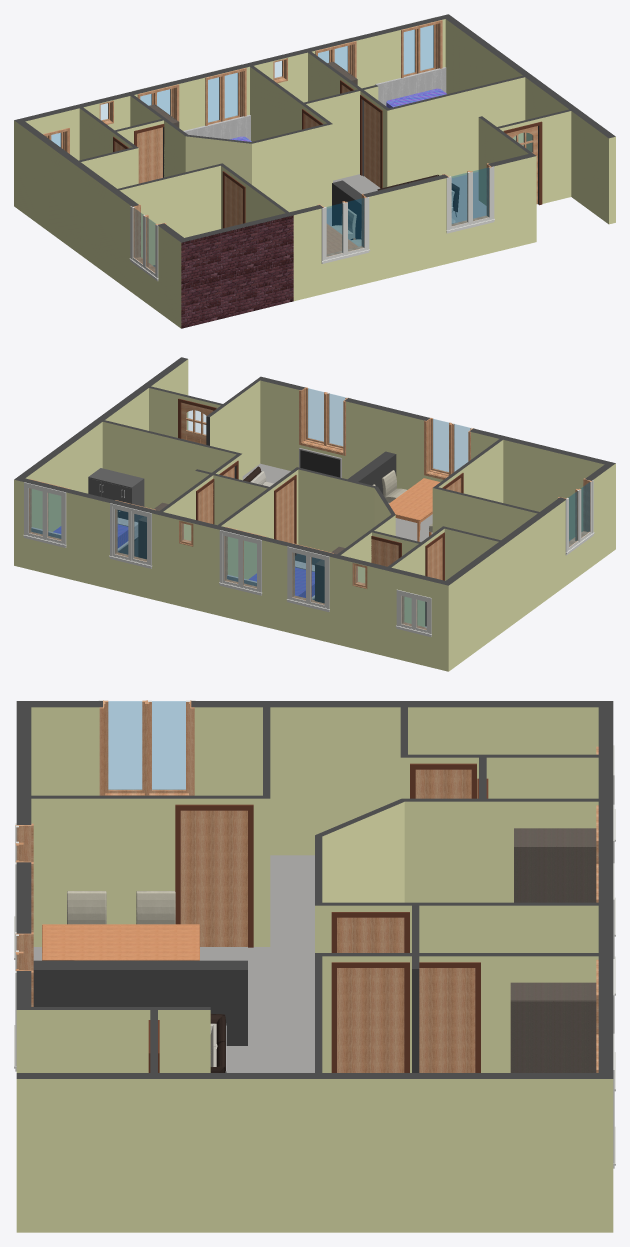
The model's file is Design 1_plan.glb.
The picture shows the model from 3 angles, top to bottom: view 1: azimuth 30°, elevation 25°; view 2: azimuth 150°, elevation 25°; view 3: azimuth 270°, elevation 25°; orthographic projection. The views are drawn at different scales.
Parts seen in each view (by area): view 1: Generic - 200mm.24, Generic - 200mm.6, Generic - 100mm.19, Generic - 200mm.3, Generic - 200mm.4, Generic - 200mm.5, Generic - 100mm.15, Generic - 100mm.8, Generic - 100mm.21, Generic - 100mm.14, Generic - 100mm.17, 1200 x 1500mm.113 (+29 smaller); view 2: Generic - 200mm.5, Generic - 200mm.6, Generic - 200mm.24, Generic - 200mm.4, Generic - 100mm.19, Generic - 200mm.3, Generic - 100mm.15, Generic - 100mm.20, Generic - 100mm.8, Generic - 100mm.14, Generic - 100mm.7, 1200 x 1500mm.114 (+34 smaller); view 3: Generic - 200mm.4, Generic - 200mm.6, Generic - 100mm.7, Flooring_Tiles_Roca_Marble-Atenas-Pe-Marble-Atenas-Blanco-Po, Generic - 100mm.20, Generic - 300mm.23, 0915 x 2134mm.29, Generic - 100mm.14, 0915 x 2134mm.31, Dining_Table_amp_Chair_11036.49, 1200 x 1500mm.115, bimstore-furniture-bedroom-wardrobe.45 (+21 smaller).
Part boxes in pixels (x1,y1,x2,y2): Generic - 200mm.24: (290, 153, 536, 301); Generic - 200mm.6: (18, 121, 188, 328); Generic - 100mm.19: (385, 75, 525, 187); Generic - 200mm.3: (185, 213, 289, 326); Generic - 200mm.4: (442, 14, 615, 224); Generic - 200mm.5: (14, 16, 445, 208); Generic - 100mm.15: (246, 122, 332, 212); Generic - 100mm.8: (118, 164, 220, 265); Generic - 100mm.21: (497, 109, 571, 204); Generic - 100mm.14: (250, 66, 330, 141); Generic - 100mm.17: (304, 85, 378, 180); 1200 x 1500mm.113: (320, 194, 367, 260); Generic - 200mm.5: (21, 478, 452, 671); Generic - 200mm.6: (446, 461, 615, 668); Generic - 200mm.24: (257, 376, 503, 489); Generic - 200mm.4: (14, 357, 188, 567); Generic - 100mm.19: (102, 420, 242, 508); Generic - 200mm.3: (503, 437, 608, 539); Generic - 100mm.15: (295, 467, 378, 552); Generic - 100mm.20: (206, 379, 260, 475); Generic - 100mm.8: (436, 487, 539, 540); Generic - 100mm.14: (218, 468, 298, 579); Generic - 100mm.7: (432, 436, 506, 533); 1200 x 1500mm.114: (301, 387, 348, 452); Generic - 200mm.4: (16, 1073, 613, 1232); Generic - 200mm.6: (16, 701, 598, 855); Generic - 100mm.7: (16, 795, 270, 946); Flooring_Tiles_Roca_Marble-Atenas-Pe-Marble-Atenas-Blanco-Po: (33, 855, 314, 1072); Generic - 100mm.20: (31, 1007, 210, 1072); Generic - 300mm.23: (33, 960, 247, 1045); 0915 x 2134mm.29: (175, 804, 253, 947); Generic - 100mm.14: (322, 902, 598, 952); 0915 x 2134mm.31: (331, 962, 409, 1072); Dining_Table_amp_Chair_11036.49: (42, 891, 199, 960); 1200 x 1500mm.115: (103, 700, 191, 795); bimstore-furniture-bedroom-wardrobe.45: (510, 982, 596, 1072).
Bounding box in the file's own units: 40.06 × 7.56 × 26.87.
121 materials, 31 textured.
